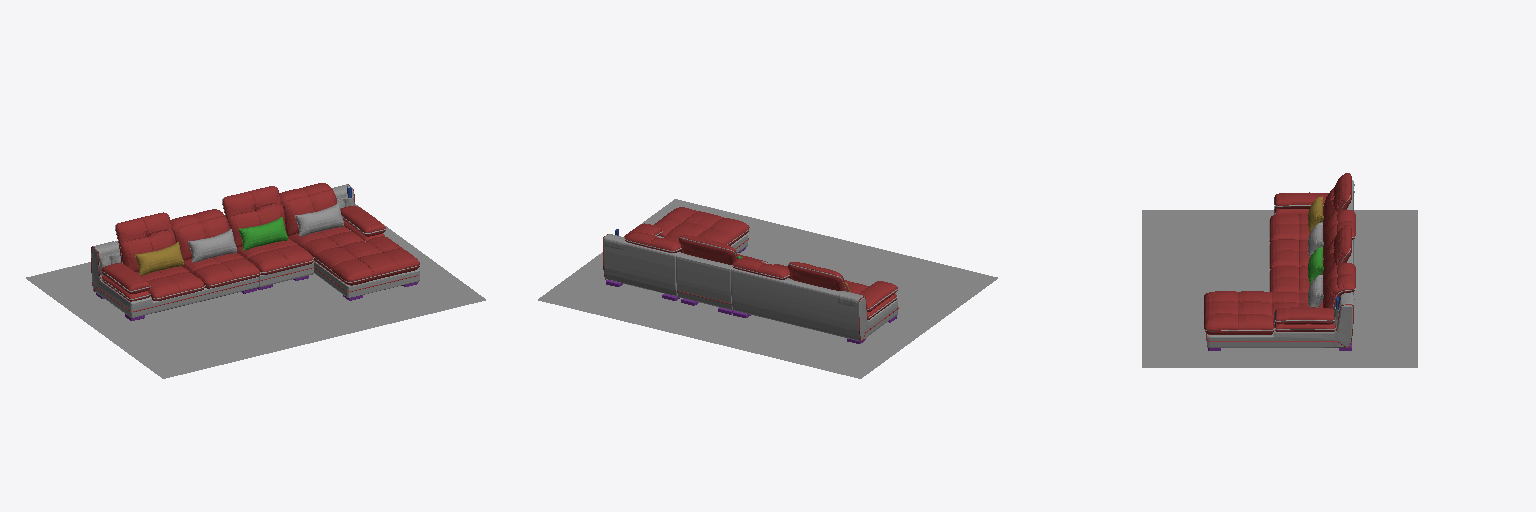
The model's file is Ajia_shafa_10632816835.obj.
3 views of the same model, side by side, from view 1: azimuth 30°, elevation 25°; view 2: azimuth 150°, elevation 25°; view 3: azimuth 270°, elevation 25° (orthographic).
Visible parts, largest first — view 1: Ajia_shafa_[number redacted], Ajia_shafa_[number redacted]_shadow; view 2: Ajia_shafa_[number redacted]_shadow, Ajia_shafa_[number redacted]; view 3: Ajia_shafa_[number redacted]_shadow, Ajia_shafa_[number redacted].
Boxes of the visible parts, box(x1,y1,x2,y2) form: Ajia_shafa_[number redacted]: box(91, 183, 419, 320); Ajia_shafa_[number redacted]_shadow: box(26, 204, 485, 378); Ajia_shafa_[number redacted]_shadow: box(538, 199, 997, 378); Ajia_shafa_[number redacted]: box(603, 207, 898, 343); Ajia_shafa_[number redacted]_shadow: box(1142, 210, 1417, 367); Ajia_shafa_[number redacted]: box(1204, 173, 1355, 350).
Bounding box in the file's own units: 4.41 × 0.8593 × 3.26.